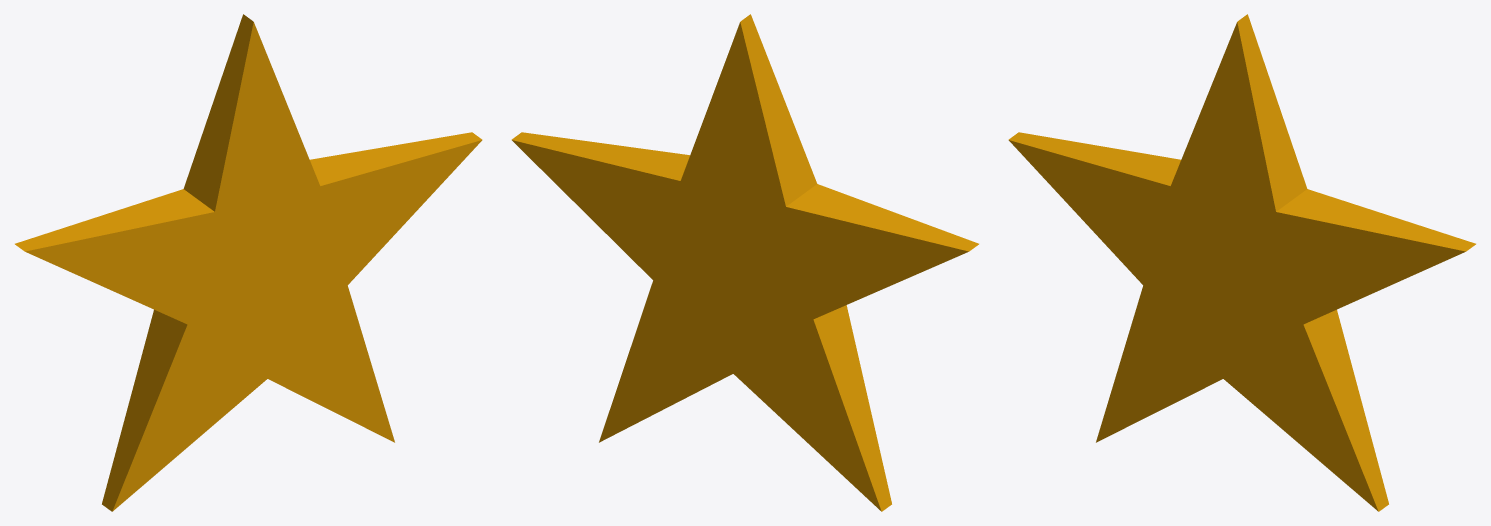
Rendered from Star.fbx.
3 views of the same model, side by side, from view 1: azimuth 30°, elevation 25°; view 2: azimuth 150°, elevation 25°; view 3: azimuth 330°, elevation 25° (orthographic).
Visible parts, largest first — view 1: Circle; view 2: Circle; view 3: Circle.
Part boxes in pixels (x1,y1,x2,y2): Circle: (15,14,482,511); Circle: (511,14,978,511); Circle: (1008,14,1475,511).
Bounding box in the file's own units: 190 × 181 × 22.55.
